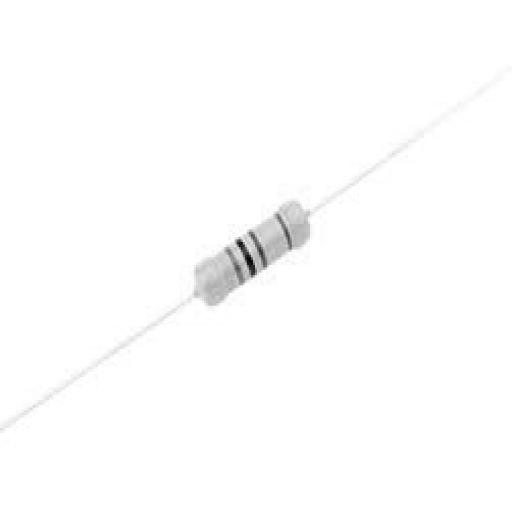RESISTOR: (148, 158, 342, 348)
